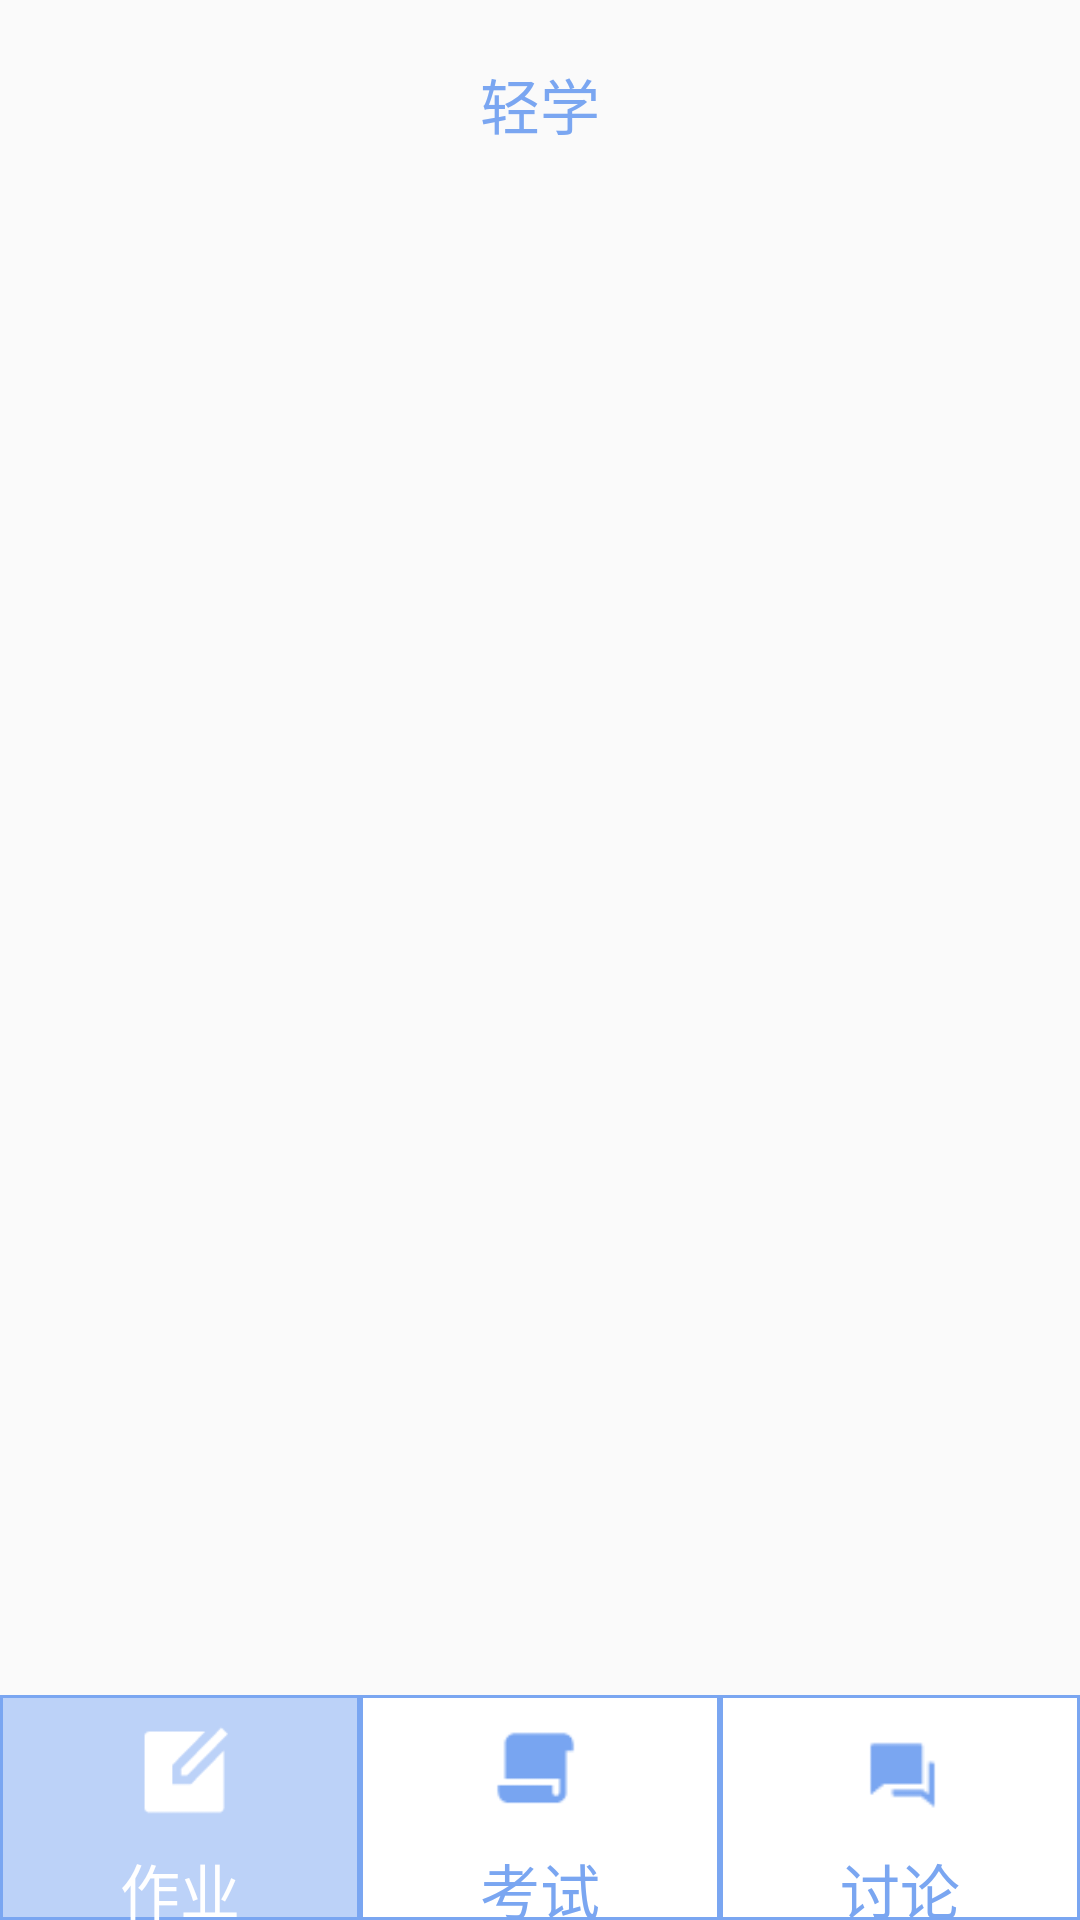

Icon bounding boxes for this 1080 × 1920 phone screenshot, format bbox=(x1, y1, x2, y2):
chat click: bbox=(870, 1743, 935, 1807)
exam click: bbox=(497, 1732, 574, 1803)
homework: bbox=(144, 1728, 228, 1813)
